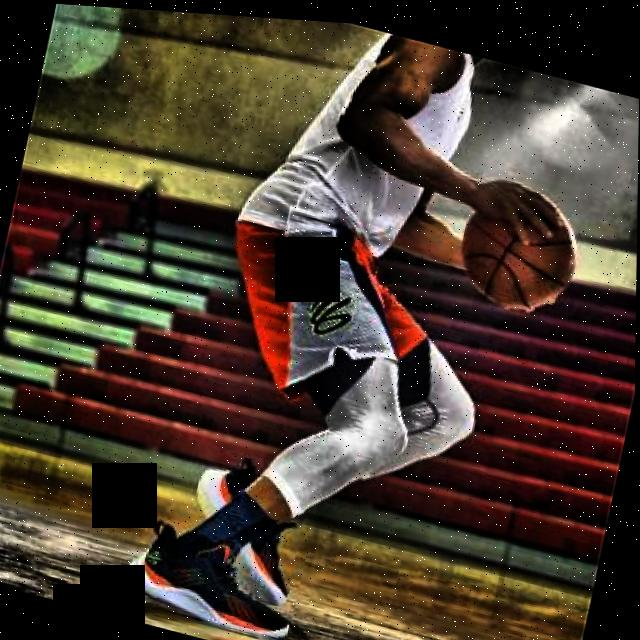shoe: (122, 508, 308, 640), (180, 445, 314, 606)
